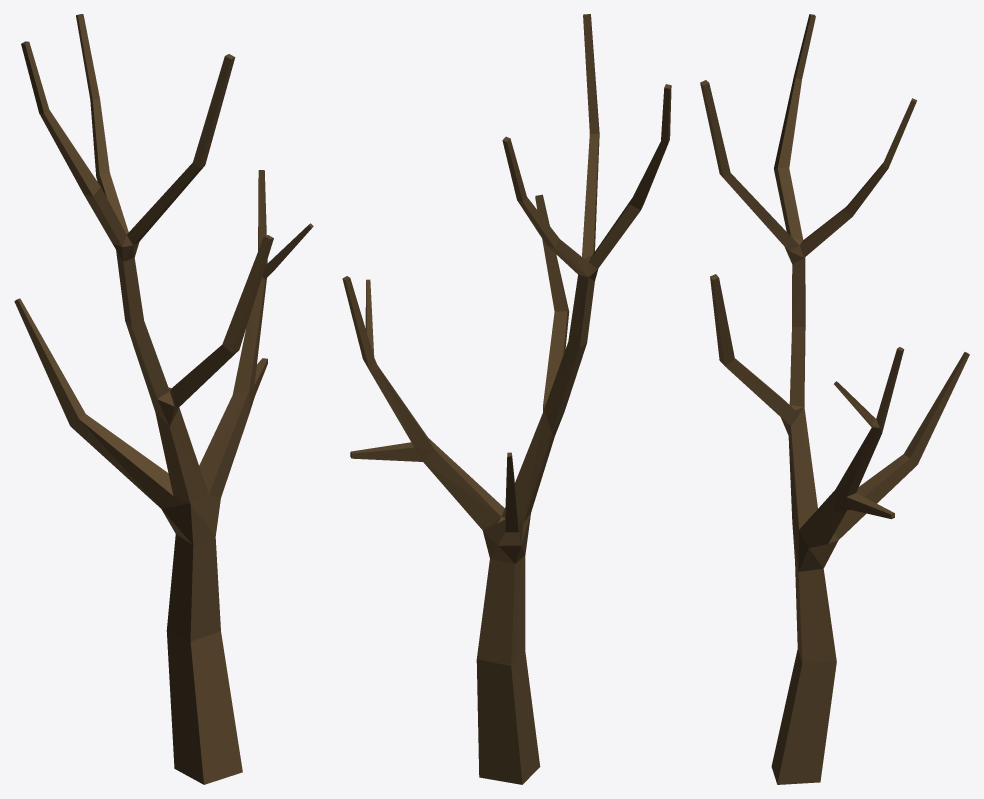
The model's file is Tree_32.fbx.
3 renders of one model, left to right at view 1: azimuth 30°, elevation 25°; view 2: azimuth 150°, elevation 25°; view 3: azimuth 270°, elevation 25°, orthographic. The views are drawn at different scales.
Parts seen in each view (by area): view 1: Tree_32; view 2: Tree_32; view 3: Tree_32.
Part boxes in pixels (box(x1,y1,x2,y2)): Tree_32: box(14, 14, 313, 784); Tree_32: box(342, 14, 671, 784); Tree_32: box(700, 14, 969, 784).
Bounding box in the file's own units: 70.07 × 168 × 60.08.
